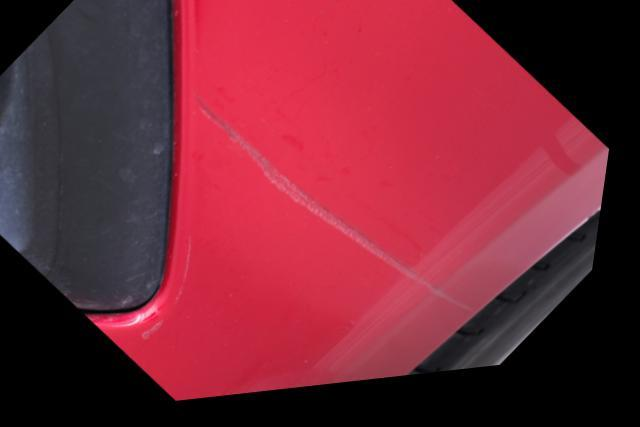scratch: (196, 95, 489, 329)
